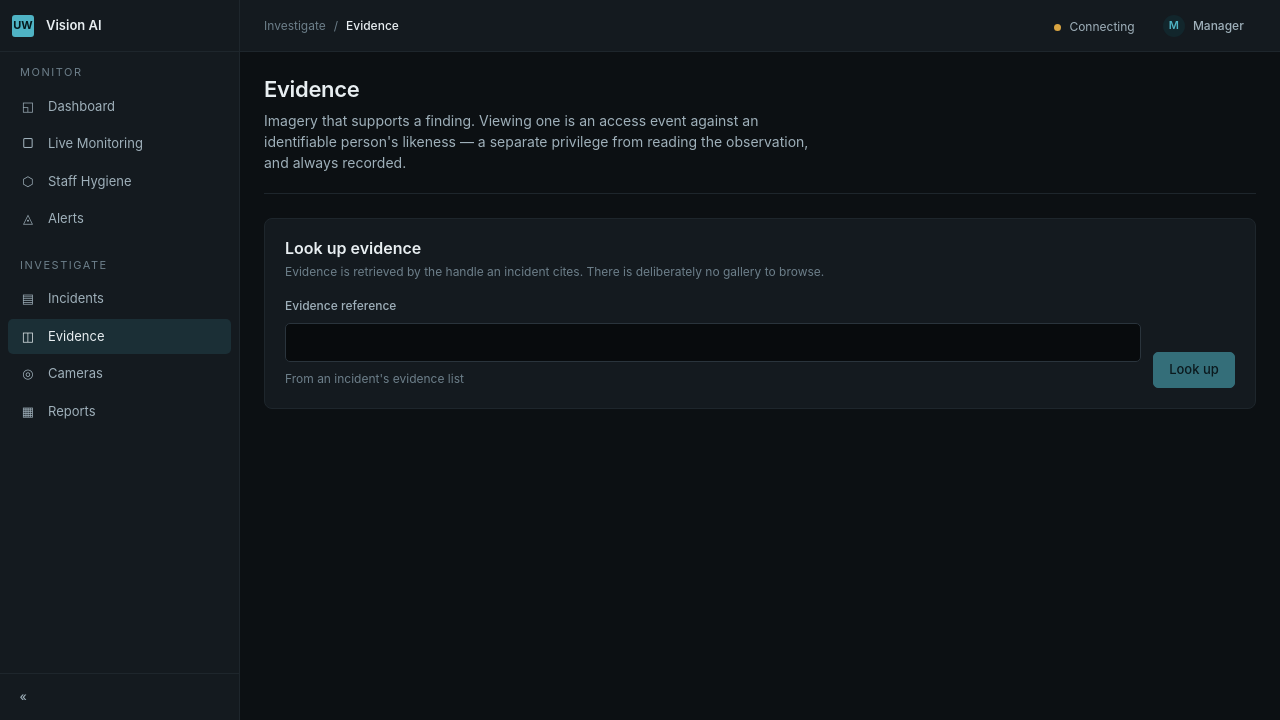
the evidence page › does not fetch the image until somebody asks for it
Type "ev-1" into the field labelled "Evidence reference" at (713, 342), box [285,323,1141,362]
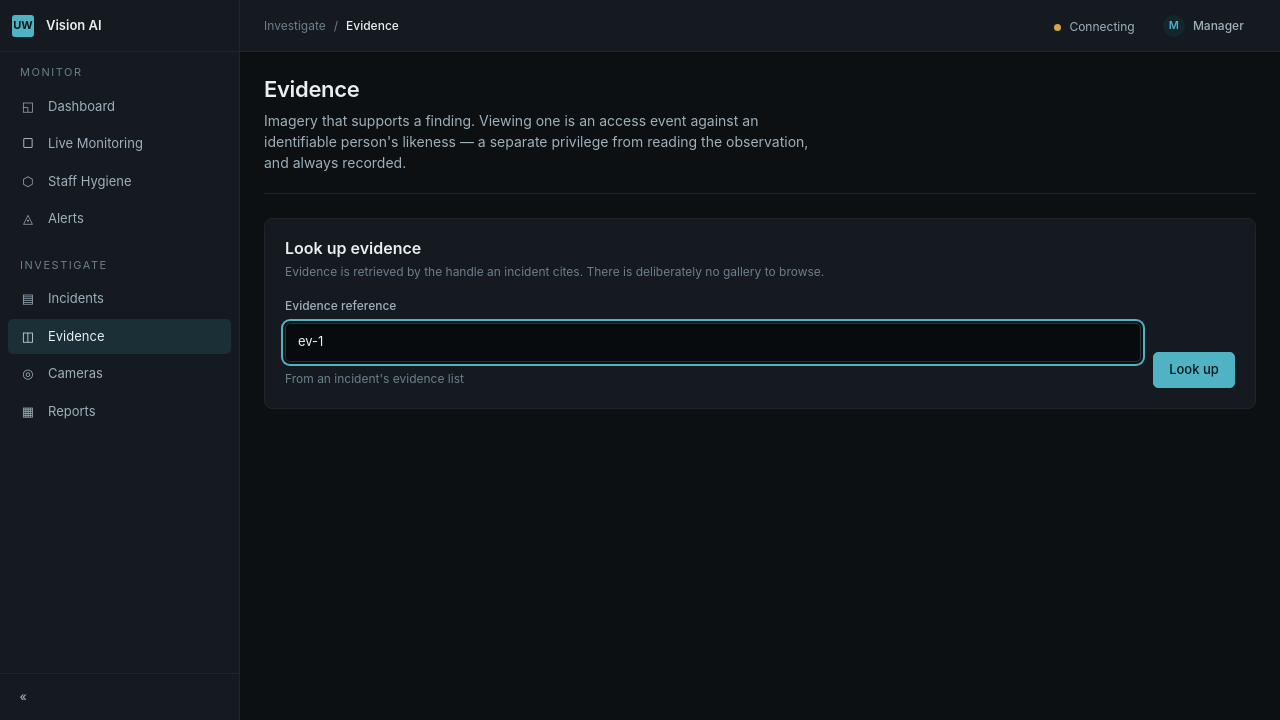
Click the button "Look up" at (1194, 370), box [1153,352,1235,388]
(page scrolled)
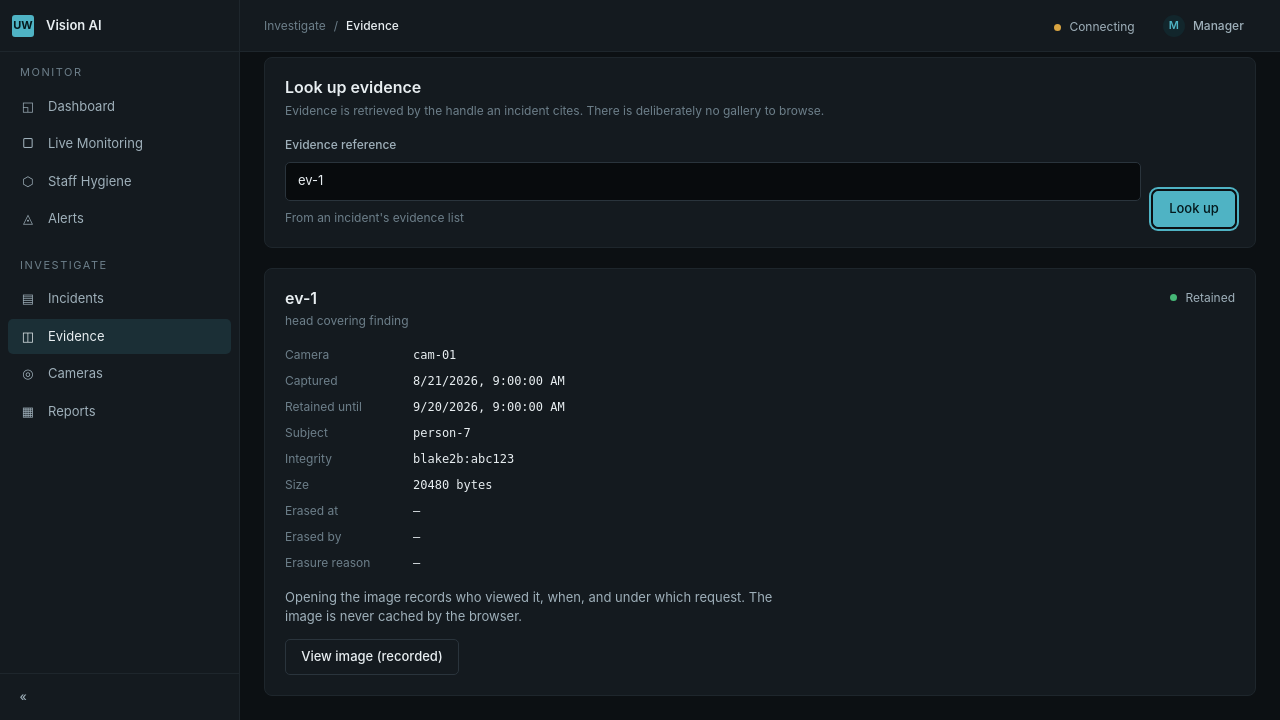
Now the text "blake2b:abc123" is shown, box [413,452,514,466]
Now the button "View image (recorded)" is shown, box [285,639,459,675]
